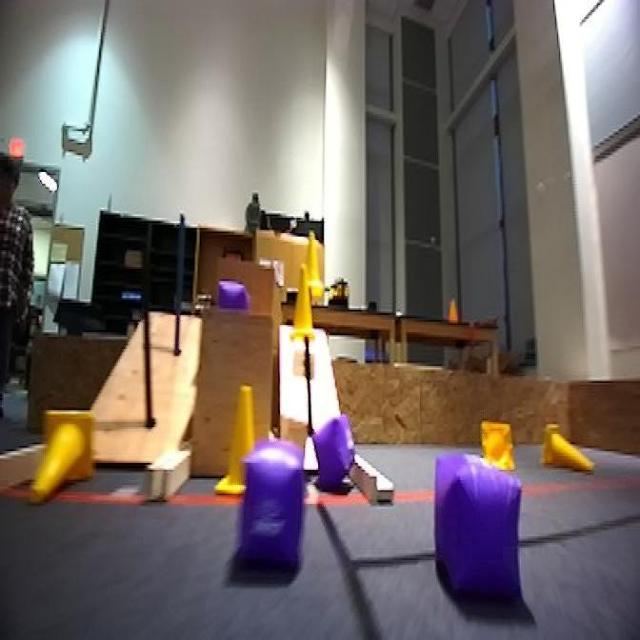frc_cone: (37, 410, 95, 507), (220, 384, 265, 494), (542, 427, 592, 473), (289, 281, 321, 349), (474, 421, 516, 466), (303, 230, 325, 300)
frc_cube: (426, 456, 534, 601), (233, 436, 298, 584), (305, 408, 354, 494), (215, 282, 250, 315)
